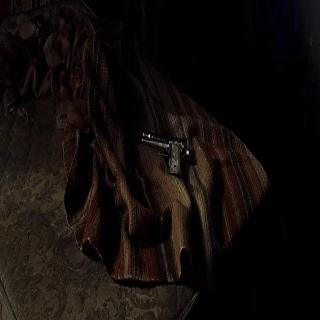gun: (140, 123, 192, 176)
